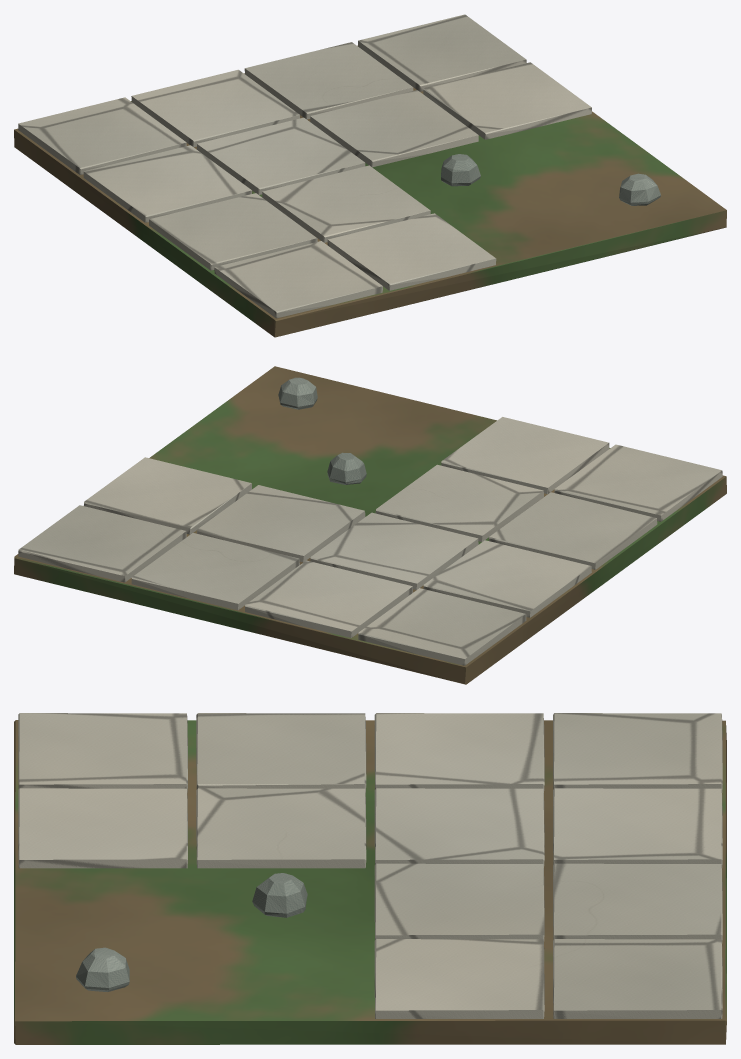
The model's file is t05_transition_corner_lod1.fbx.
3 views of the same model, one above another, from view 1: azimuth 30°, elevation 25°; view 2: azimuth 150°, elevation 25°; view 3: azimuth 270°, elevation 25° (orthographic). The views are drawn at different scales.
Parts seen in each view (by area): view 1: t05_transition_corner.005; view 2: t05_transition_corner.005; view 3: t05_transition_corner.005.
Part boxes in pixels (bbox=[...]): t05_transition_corner.005: bbox=[14, 14, 726, 337]; t05_transition_corner.005: bbox=[14, 366, 726, 684]; t05_transition_corner.005: bbox=[14, 713, 726, 1044].
Bounding box in the file's own units: 25600 × 25546 × 2183.
